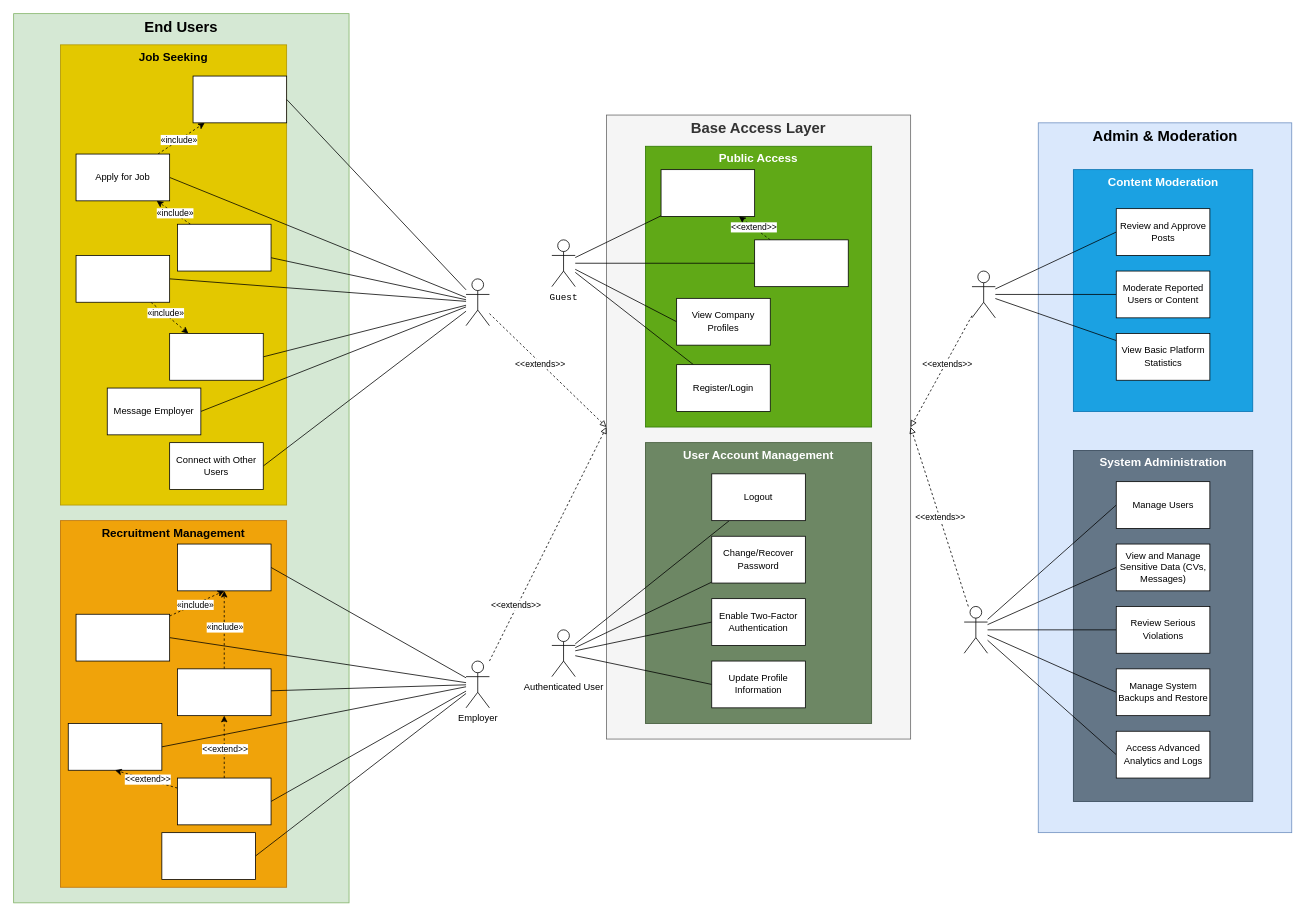
The diagram is 1306 pixels wide and 916 high, and some of its shapes have lost their labels. The shapes that lost their labels are listed below. From the top down, each one's centre as x and y in pixels, then its label:
At (239,99): "Create and Manage Resume".
At (707,192): "View/Search Jobs".
At (224,247): "Track Application Status".
At (801,263): "Read Public Posts".
At (122,278): "Save Job to Favorites".
At (983,294): "Manager".
At (477,302): "Job Seeker".
At (216,356): "Receive Job Alerts Based on Filters".
At (224,567): "Post Job Listing".
At (122,637): "Edit or Delete Job Listing".
At (975,629): "Administrator".
At (224,692): "View Applications".
At (114,746): "Shortlist Candidates".
At (224,801): "Message Job Seekers".
At (208,855): "Manage Employer Profile".
